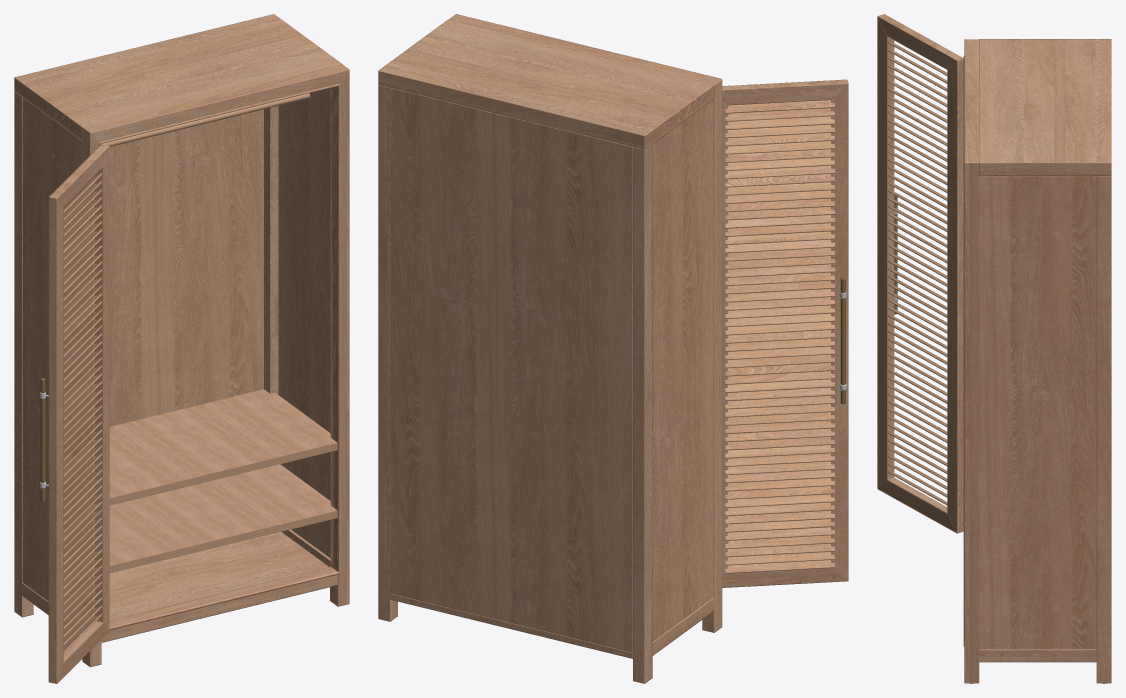
The picture shows the model from 3 angles, left to right: view 1: azimuth 30°, elevation 25°; view 2: azimuth 150°, elevation 25°; view 3: azimuth 270°, elevation 25°; orthographic projection. The views are drawn at different scales.
Parts seen in each view (by area): view 1: body, door l, Cube.001, Cube, Cylinder, handle.003; view 2: body, door l, handle.003; view 3: body, door l.
Part boxes in pixels (box(x1,y1,x2,y2)): body: box(14, 14, 349, 667); door l: box(48, 144, 109, 683); Cube.001: box(109, 389, 337, 505); Cube: box(109, 464, 337, 573); Cylinder: box(51, 93, 310, 160); handle.003: box(40, 378, 48, 501); body: box(378, 14, 722, 683); door l: box(722, 79, 848, 587); handle.003: box(840, 277, 846, 404); body: box(963, 39, 1111, 683); door l: box(877, 14, 963, 533).
Size of the model in its own units: 0.8494 by 1.26 by 0.5123.
Materials: 5 (3 with a texture image).
